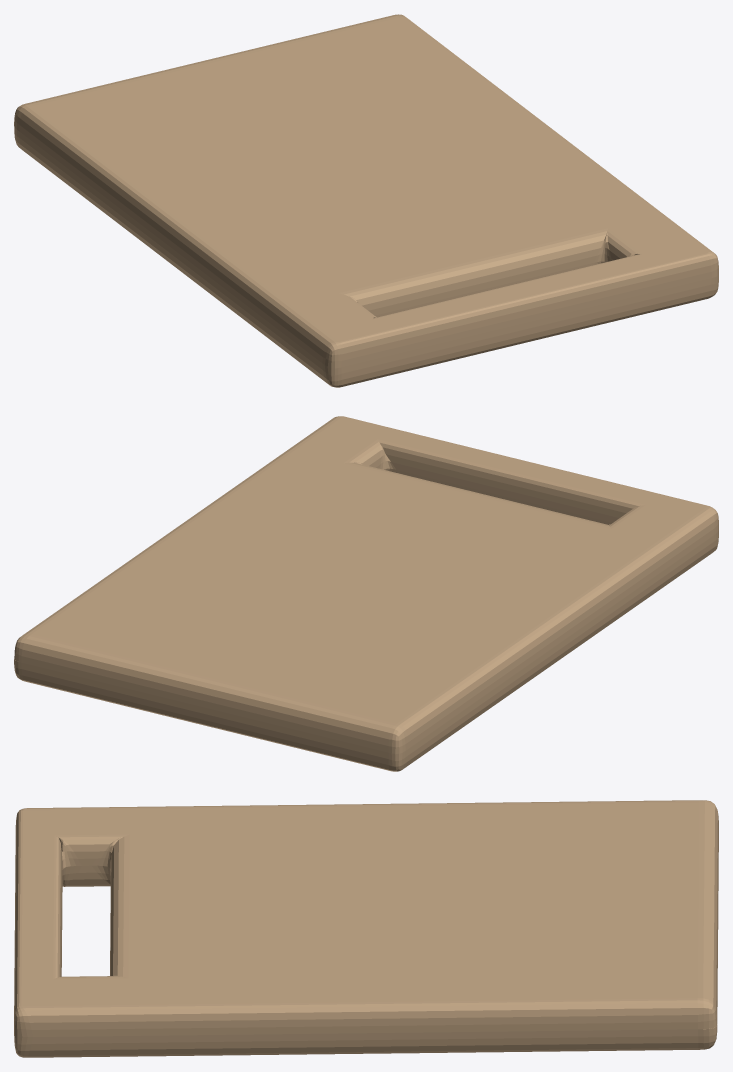
The model's file is tabla.fbx.
The picture shows the model from 3 angles, top to bottom: view 1: azimuth 30°, elevation 25°; view 2: azimuth 150°, elevation 25°; view 3: azimuth 270°, elevation 25°; orthographic projection. The views are drawn at different scales.
Parts seen in each view (by area): view 1: Plane.008; view 2: Plane.008; view 3: Plane.008.
Part boxes in pixels (x1,y1,x2,y2): Plane.008: (14,14,718,387); Plane.008: (14,416,718,771); Plane.008: (14,800,718,1057).
Size of the model in its own units: 131 by 12 by 91.84.
